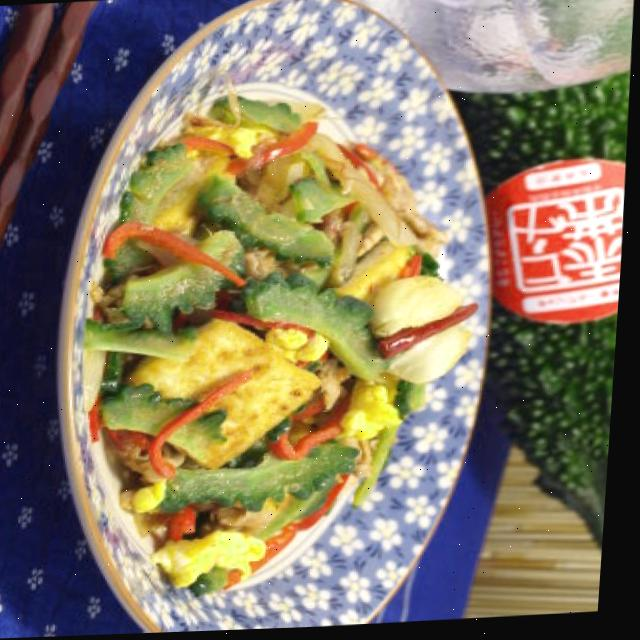熟制海鲜: (39, 0, 530, 638)
